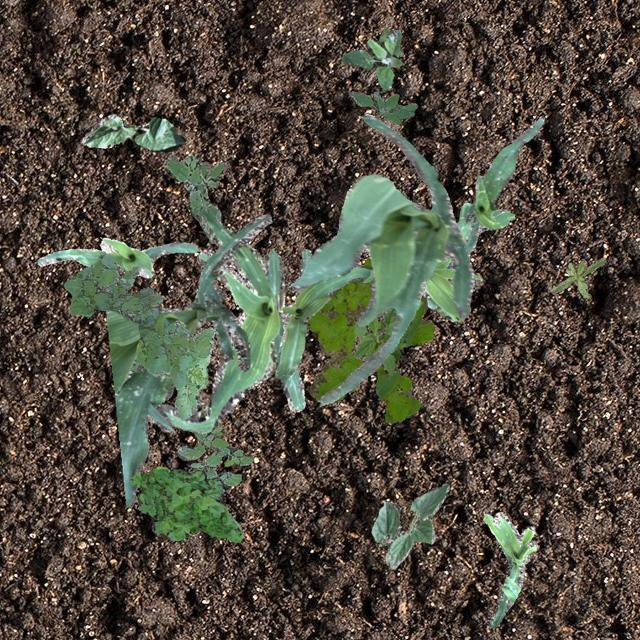crop: (290, 112, 473, 404), (105, 212, 271, 506), (144, 212, 304, 432), (274, 248, 372, 378), (463, 118, 542, 252), (420, 202, 490, 322), (370, 482, 448, 568), (36, 236, 198, 276), (482, 512, 536, 626), (80, 112, 184, 152)
weed: (62, 254, 214, 418), (306, 258, 432, 422), (130, 466, 242, 542), (166, 154, 227, 242), (175, 422, 252, 486), (340, 27, 402, 90), (352, 306, 404, 374), (548, 256, 606, 298), (348, 90, 416, 124)
